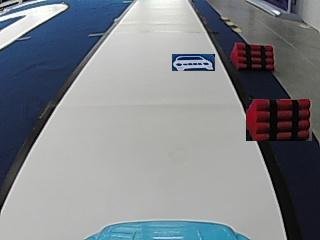bomb: (229, 44, 277, 69)
